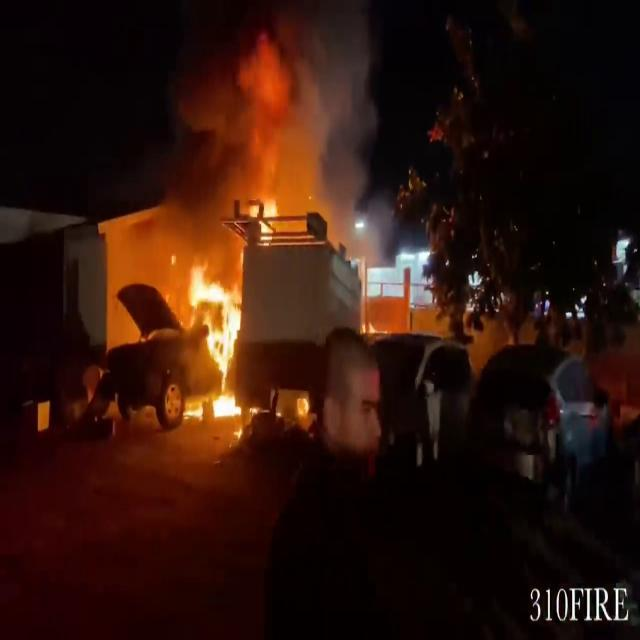Fire: (178, 256, 255, 423)
Smoke: (146, 1, 398, 238)
